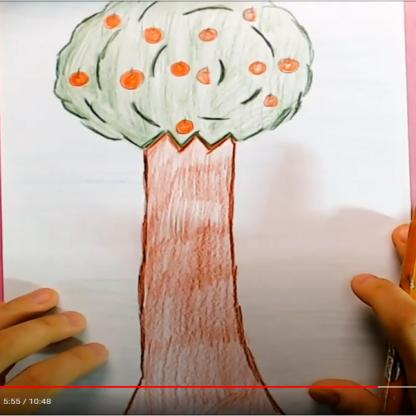apple: (118, 68, 146, 92), (277, 54, 299, 74), (68, 69, 88, 89), (168, 62, 190, 76), (244, 6, 260, 23)
branch_sharp: (140, 130, 240, 166)
crown_cloud: (54, 2, 314, 148)
trunk_straight: (137, 176, 257, 362)
